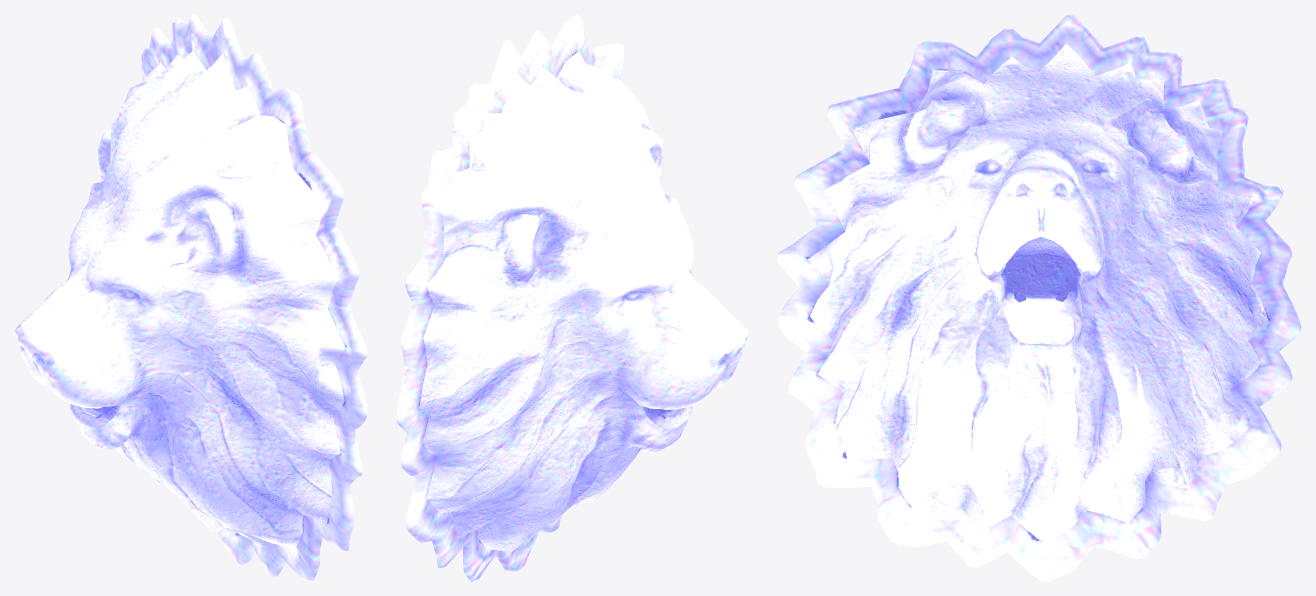
File: lion_high_poly_SM.fbx
3 renders of one model, left to right at view 1: azimuth 30°, elevation 25°; view 2: azimuth 150°, elevation 25°; view 3: azimuth 270°, elevation 25°, orthographic. The views are drawn at different scales.
Visible parts, largest first — view 1: lion_high_poly_SM_LOD0; view 2: lion_high_poly_SM_LOD0; view 3: lion_high_poly_SM_LOD0.
Boxes of the visible parts, box(x1,y1,x2,y2) form: lion_high_poly_SM_LOD0: box(14, 14, 367, 581); lion_high_poly_SM_LOD0: box(396, 14, 748, 581); lion_high_poly_SM_LOD0: box(777, 14, 1301, 581).
Bounding box in the file's own units: 70.69 × 139 × 166.
Materials: 1 (1 with a texture image).
